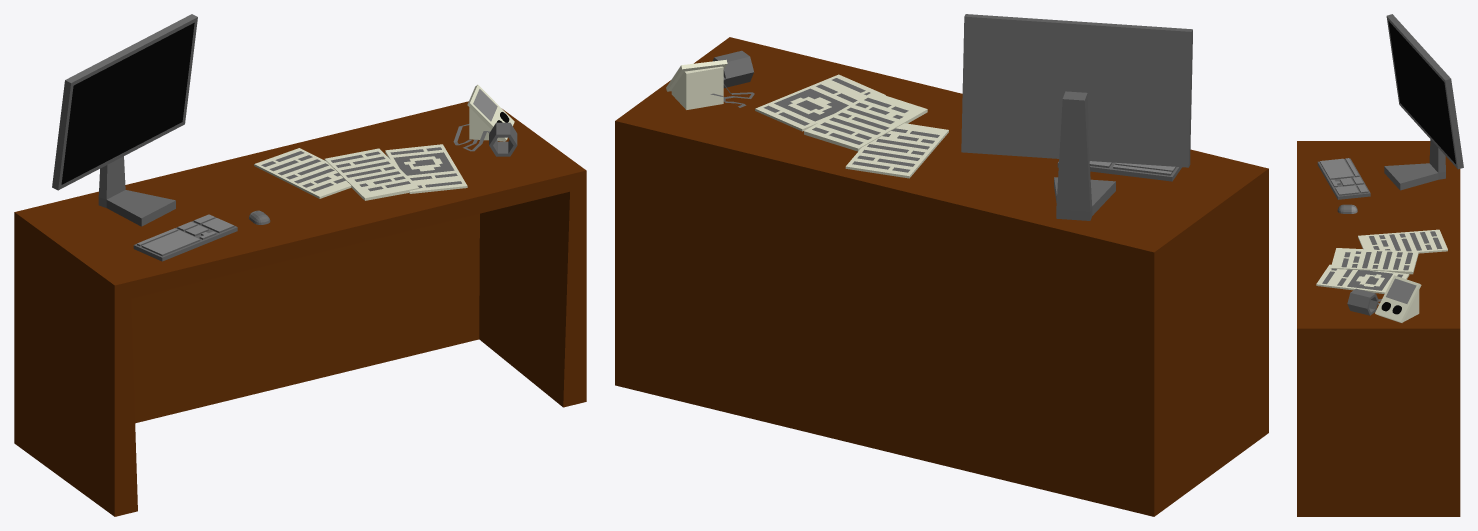
The model's file is table03-hospital.fbx.
3 views of the same model, side by side, from view 1: azimuth 30°, elevation 25°; view 2: azimuth 150°, elevation 25°; view 3: azimuth 270°, elevation 25° (orthographic). The views are drawn at different scales.
Parts seen in each view (by area): view 1: table03-hospital; view 2: table03-hospital; view 3: table03-hospital.
Boxes of the visible parts, left/top/right/bottom form: table03-hospital: left=14, top=14, right=586, bottom=516; table03-hospital: left=615, top=14, right=1268, bottom=516; table03-hospital: left=1297, top=14, right=1463, bottom=516.
Size of the model in its own units: 427 by 339 by 161.
